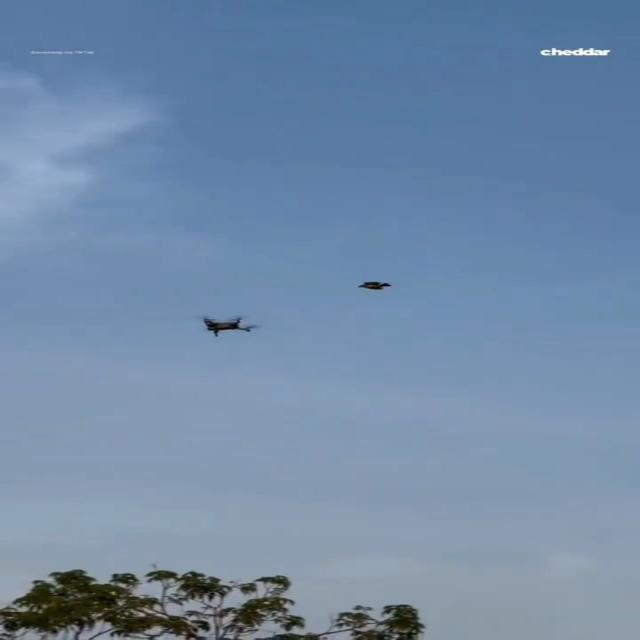bird: (357, 282, 391, 290)
drone: (202, 316, 252, 336)
